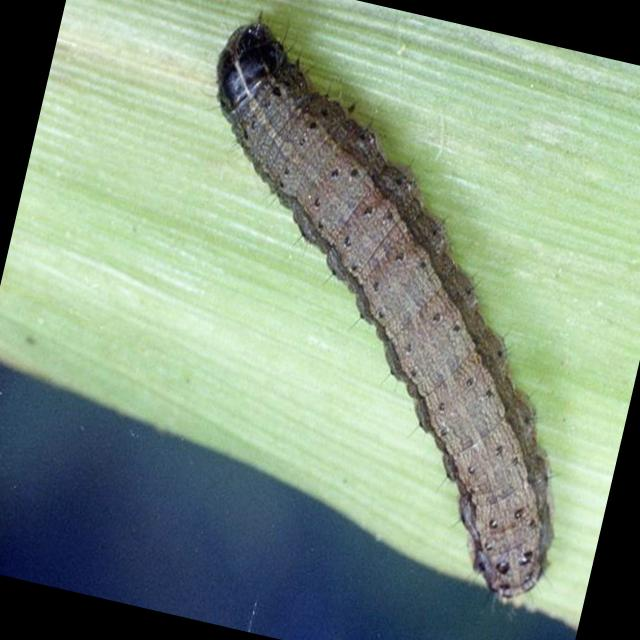pest: (116, 30, 637, 595)
